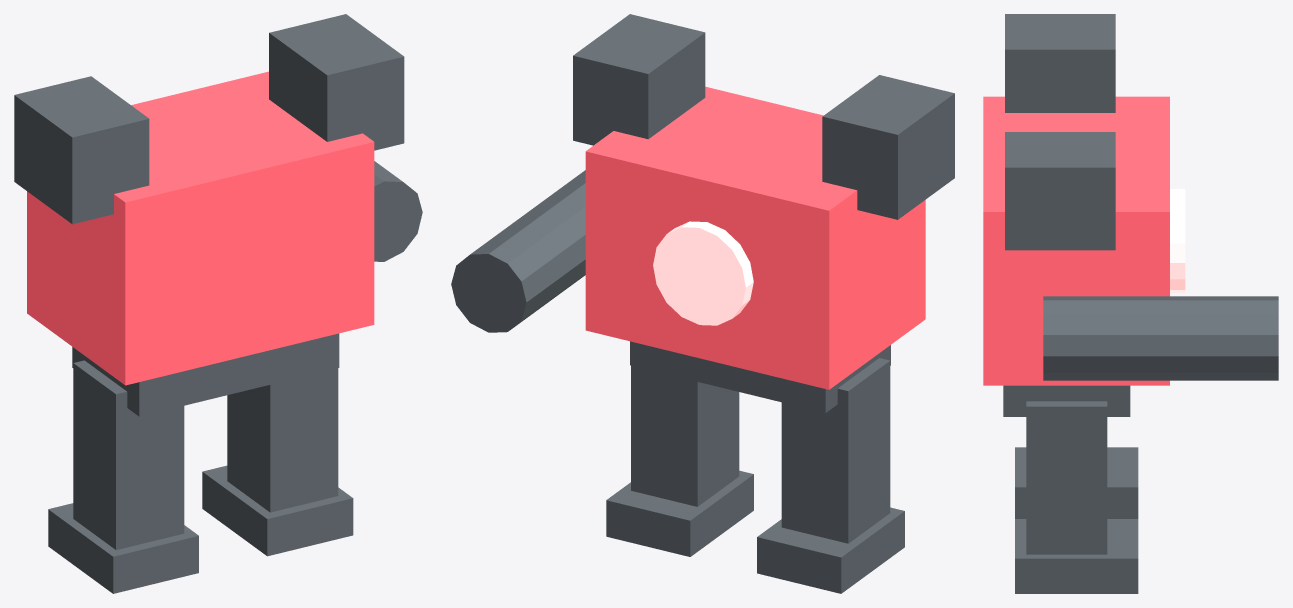
The model's file is mech.glb.
The picture shows the model from 3 angles, left to right: view 1: azimuth 30°, elevation 25°; view 2: azimuth 150°, elevation 25°; view 3: azimuth 270°, elevation 25°; orthographic projection. The views are drawn at different scales.
Visible parts, largest first — view 1: Hull, LegL, MissilePodL, MissilePodR, LegR, Pelvis, FootR, FootL, RotaryMinigun; view 2: Hull, LegL, MissilePodL, MissilePodR, LegR, RotaryMinigun, Reactor, FootR, FootL, Pelvis; view 3: Hull, RotaryMinigun, MissilePodR, LegR, MissilePodL, FootR, FootL, Pelvis, Reactor.
Boxes of the visible parts, bbox=[...] form: Hull: bbox=[27, 71, 374, 385]; LegL: bbox=[73, 360, 184, 549]; MissilePodL: bbox=[14, 76, 149, 224]; MissilePodR: bbox=[269, 14, 404, 150]; LegR: bbox=[227, 368, 338, 512]; Pelvis: bbox=[72, 333, 339, 416]; FootR: bbox=[202, 465, 353, 556]; FootL: bbox=[48, 503, 198, 593]; RotaryMinigun: bbox=[374, 161, 422, 261]; Hull: bbox=[585, 86, 925, 389]; LegL: bbox=[781, 358, 890, 543]; MissilePodL: bbox=[822, 75, 954, 219]; MissilePodR: bbox=[573, 14, 705, 145]; LegR: bbox=[631, 365, 739, 506]; RotaryMinigun: bbox=[451, 170, 585, 332]; Reactor: bbox=[653, 221, 753, 325]; FootR: bbox=[606, 470, 753, 556]; FootL: bbox=[757, 507, 904, 593]; Pelvis: bbox=[630, 341, 890, 412]; Hull: bbox=[983, 96, 1169, 385]; RotaryMinigun: bbox=[1043, 296, 1278, 380]; MissilePodR: bbox=[1005, 132, 1115, 250]; LegR: bbox=[1026, 401, 1107, 554]; MissilePodL: bbox=[1005, 14, 1115, 112]; FootR: bbox=[1015, 519, 1138, 593]; FootL: bbox=[1015, 447, 1138, 518]; Pelvis: bbox=[1003, 385, 1130, 416]; Reactor: bbox=[1170, 189, 1185, 292].
Bounding box in the file's own units: 2.5 × 3.04 × 1.82.
